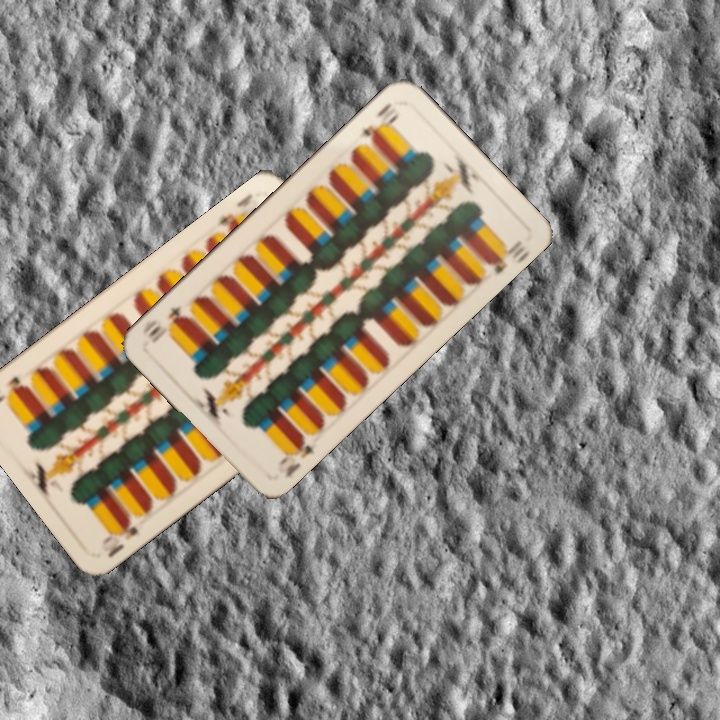E10: (273, 430, 317, 480), (358, 98, 402, 146), (97, 513, 141, 560), (213, 209, 243, 236)
